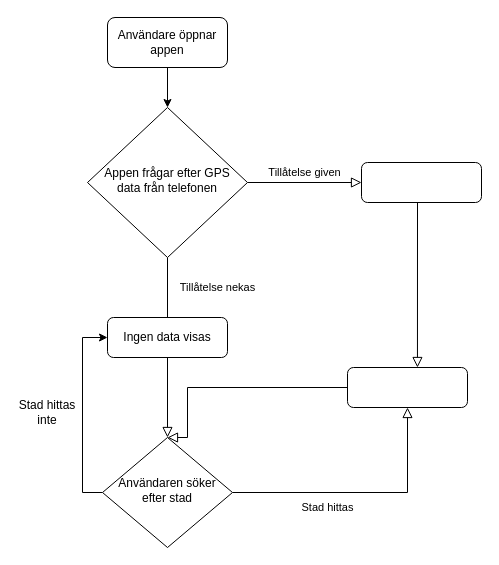
Image size: 499x565. Some labels were removed from this diagram. The box of each missing label's shape, as (x1, y1, x2, y2) in pixels:
Aktuell väderdata visas: (346, 366, 468, 408)
Data laddas in från API med GPS data: (360, 162, 482, 202)
